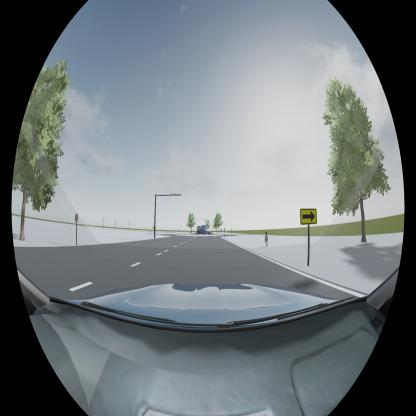Speed Limit 30: (75, 213, 78, 222)
